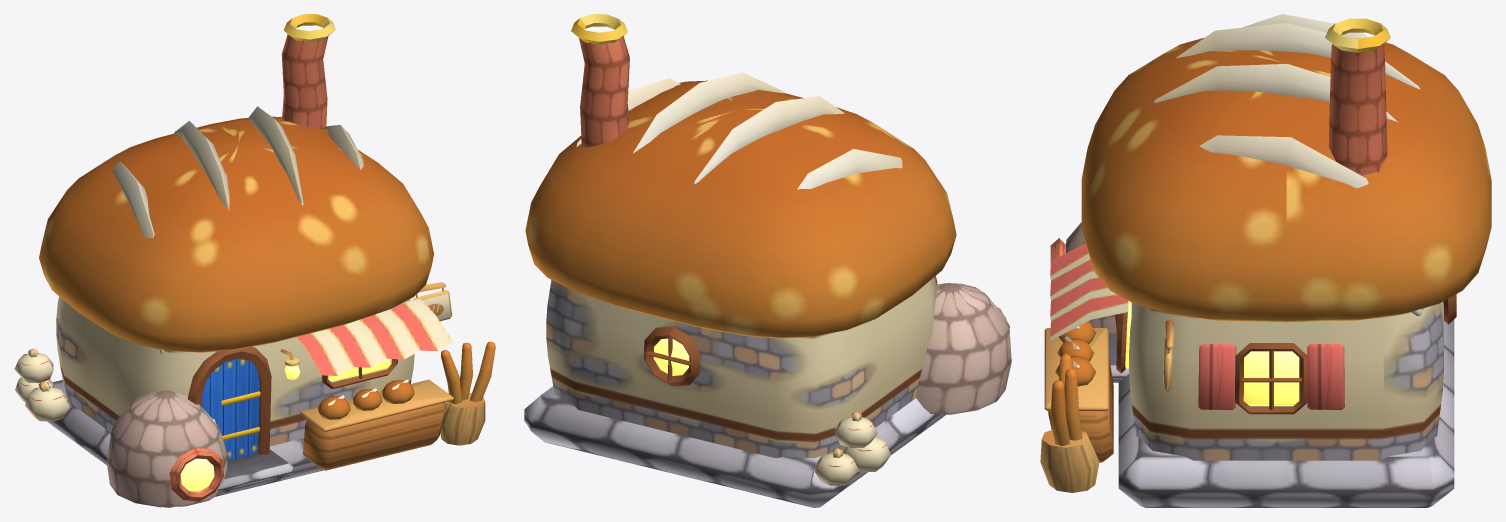
File: bakery.glb
3 renders of one model, left to right at view 1: azimuth 30°, elevation 25°; view 2: azimuth 150°, elevation 25°; view 3: azimuth 270°, elevation 25°, orthographic. The views are drawn at different scales.
Visible parts, largest first — view 1: bakery; view 2: bakery; view 3: bakery.
Boxes of the visible parts, bbox=[...] form: bakery: bbox=[14, 14, 495, 507]; bakery: bbox=[524, 14, 1011, 507]; bakery: bbox=[1040, 14, 1491, 507].
Bounding box in the file's own units: 7.15 × 7.18 × 6.32.
4 materials, 4 textured.
